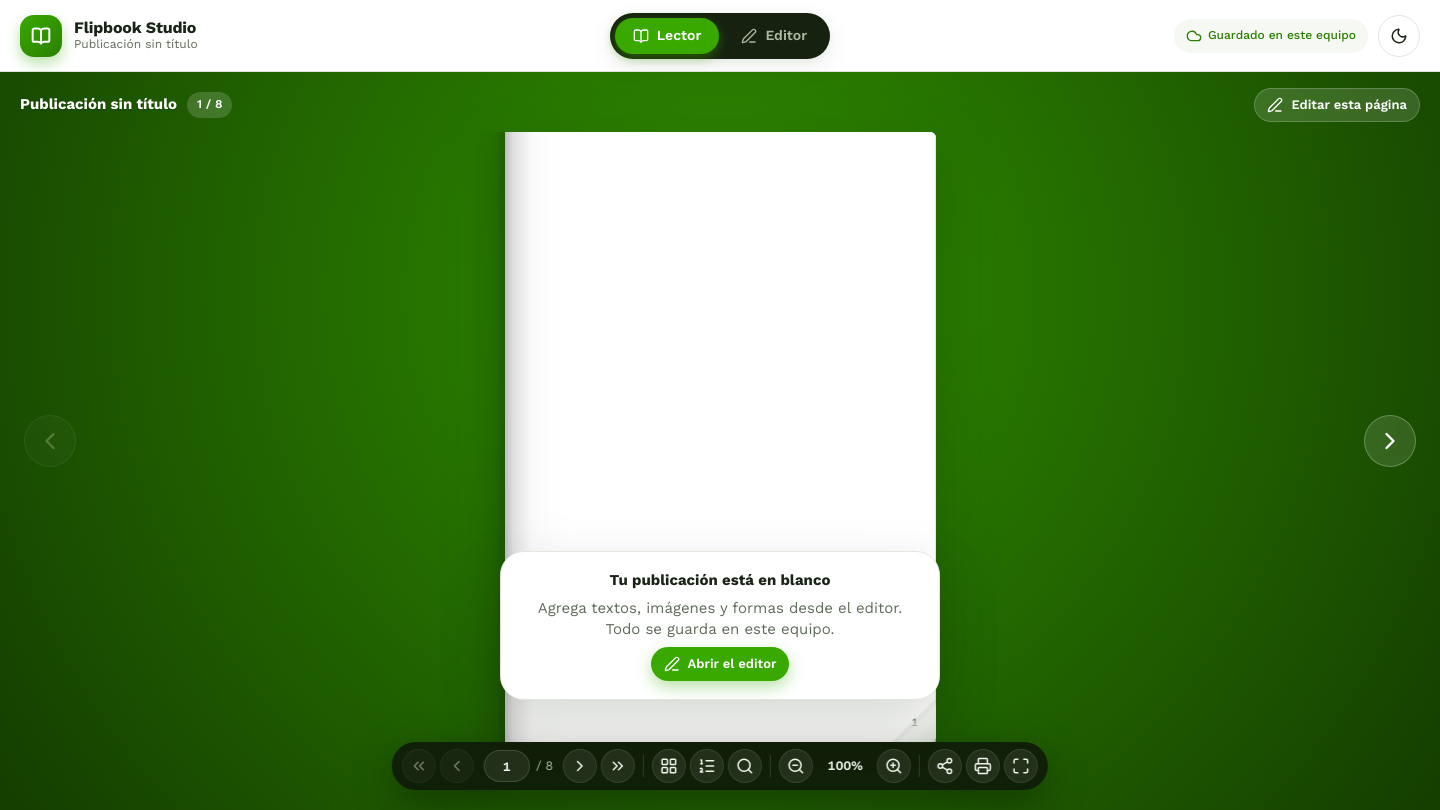
it: integración: lector › salta a una página escrita en la barra
The width and height of the screenshot is (1440, 810).
Replace the text in the field named "Ir a la página" with "6" at (507, 766), box [484,750,530,782]
Then press Enter
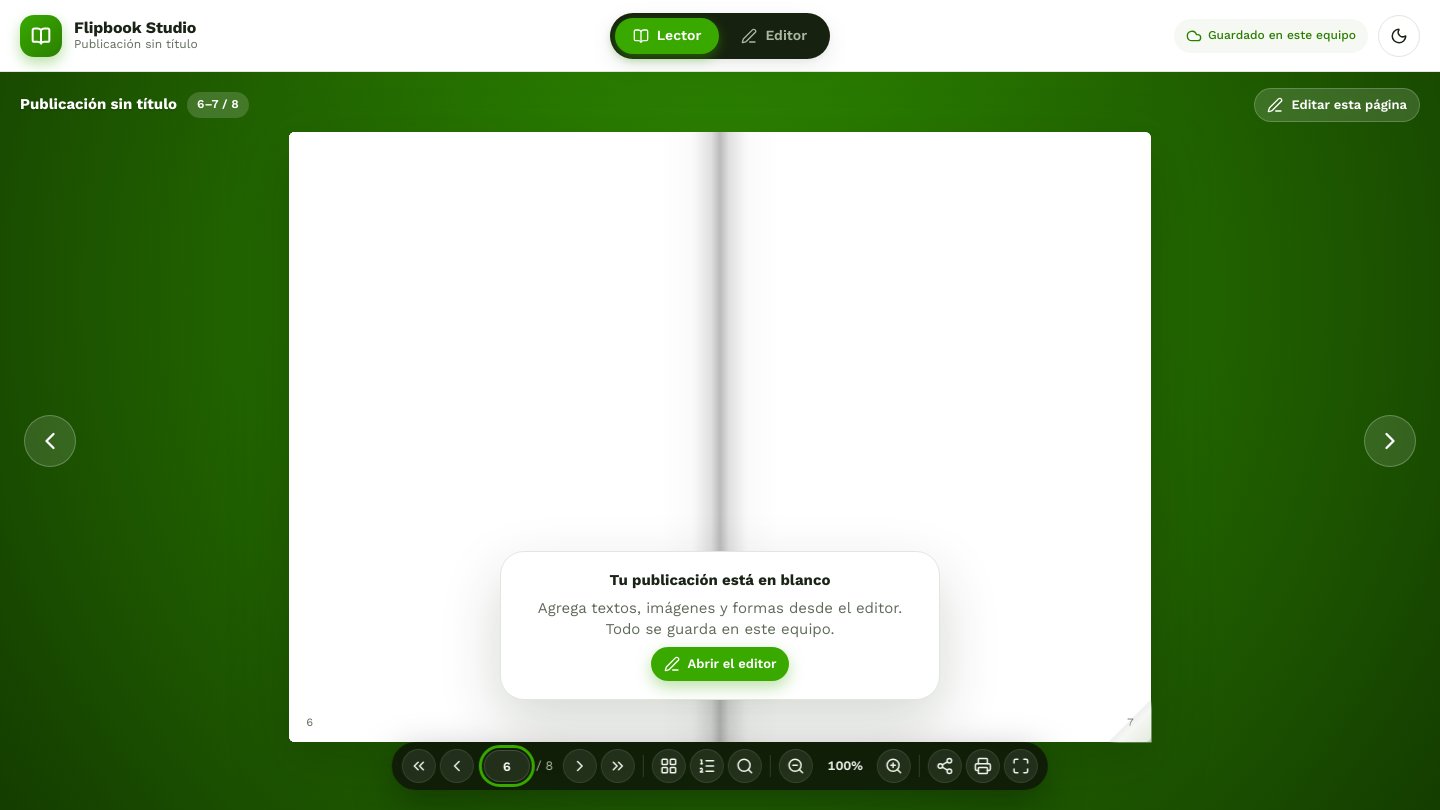
Check: the text "6–7 / 8" is shown, box [187,92,249,118]
